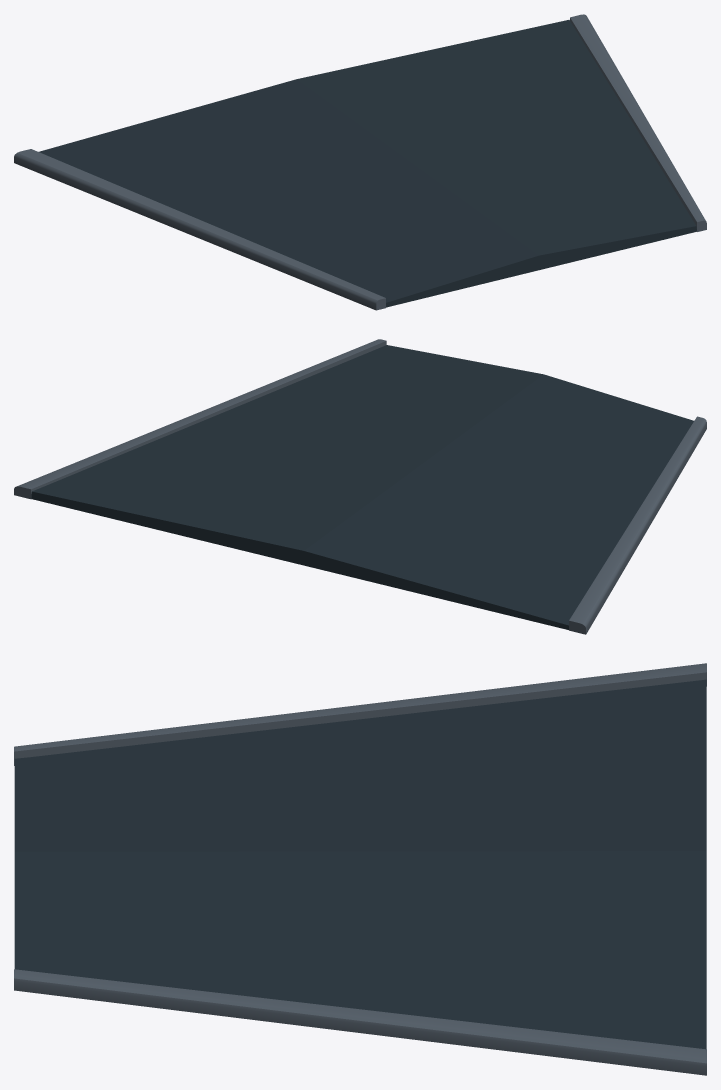
The model's file is Widen.fbx.
3 renders of one model, top to bottom at view 1: azimuth 30°, elevation 25°; view 2: azimuth 150°, elevation 25°; view 3: azimuth 270°, elevation 25°, orthographic. The views are drawn at different scales.
Parts seen in each view (by area): view 1: Straight; view 2: Straight; view 3: Straight.
Part boxes in pixels (x1,y1,x2,y2): Straight: (14, 14, 706, 310); Straight: (14, 339, 706, 634); Straight: (14, 663, 706, 1075).
Size of the model in its own units: 1450 by 36.22 by 1059.
